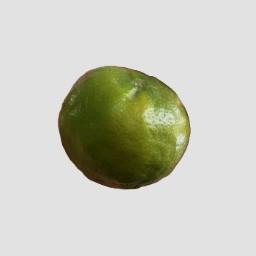Unripe: (59, 68, 188, 188)
